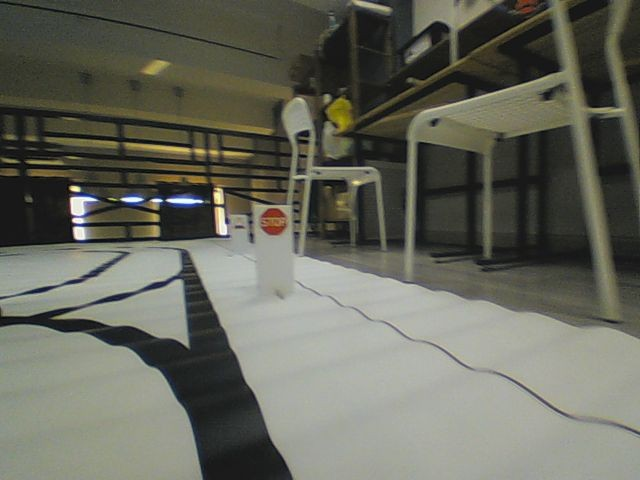Stop: (258, 206, 287, 235)
